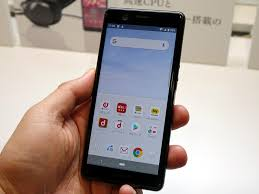sony: (78, 8, 186, 193)
